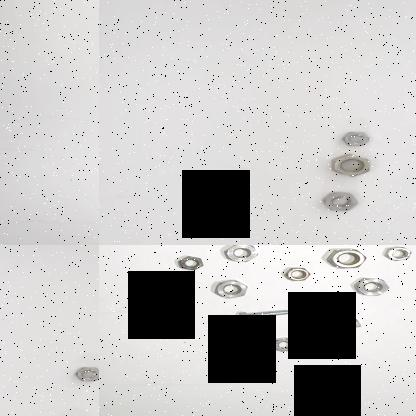Bolts: (310, 318, 363, 338), (236, 308, 293, 322)
NUTS: (349, 273, 398, 299), (322, 245, 370, 271), (320, 187, 362, 215), (274, 261, 316, 288), (332, 152, 373, 178), (206, 322, 254, 344), (65, 362, 99, 392), (199, 361, 246, 382), (336, 127, 378, 148), (208, 278, 250, 298), (219, 245, 260, 265), (382, 245, 416, 264), (268, 335, 302, 354), (319, 302, 353, 320), (175, 253, 205, 273)
